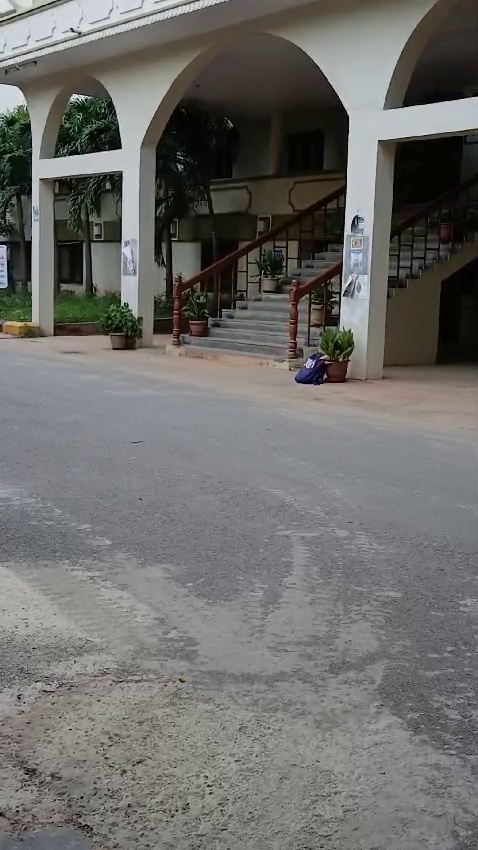bag: (292, 353, 338, 390)
